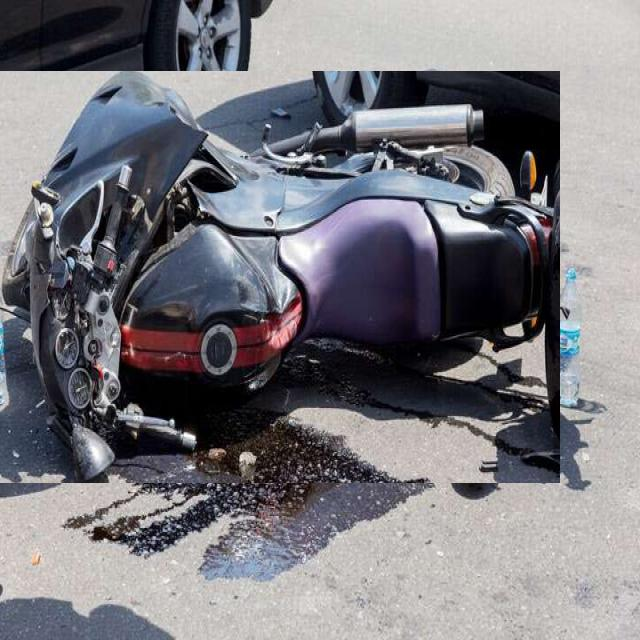accident: (0, 71, 560, 483)
